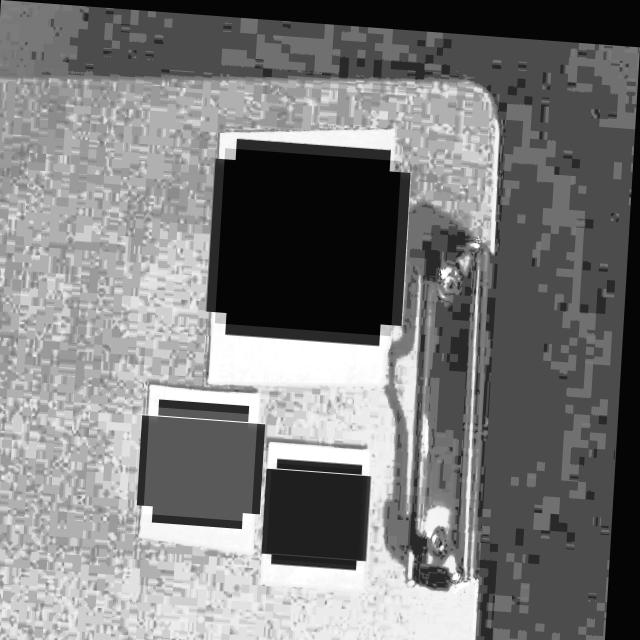qr_code: (218, 145, 402, 330), (149, 404, 262, 517), (272, 458, 372, 560)
